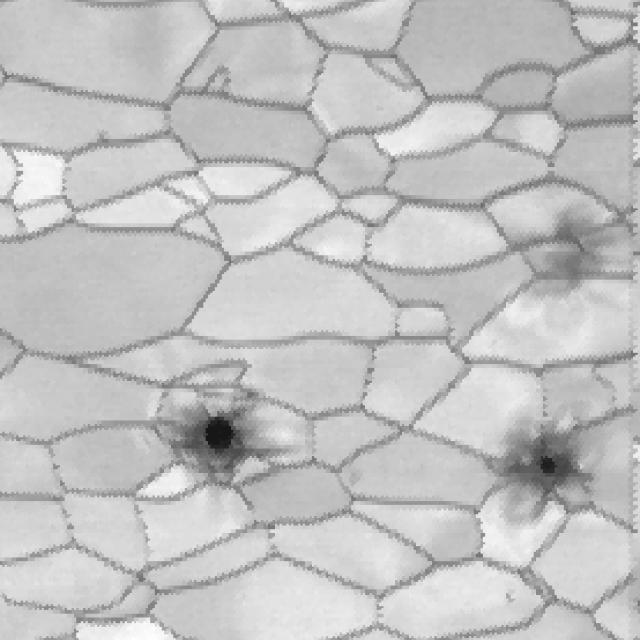good_void: (507, 193, 623, 331), (154, 390, 295, 489), (492, 420, 597, 537), (498, 585, 518, 614), (156, 390, 178, 402), (90, 130, 109, 142)
